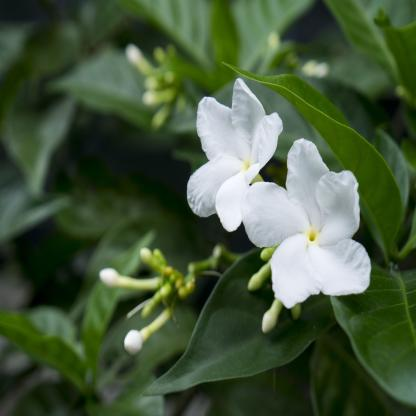Melati: (191, 45, 382, 354)
